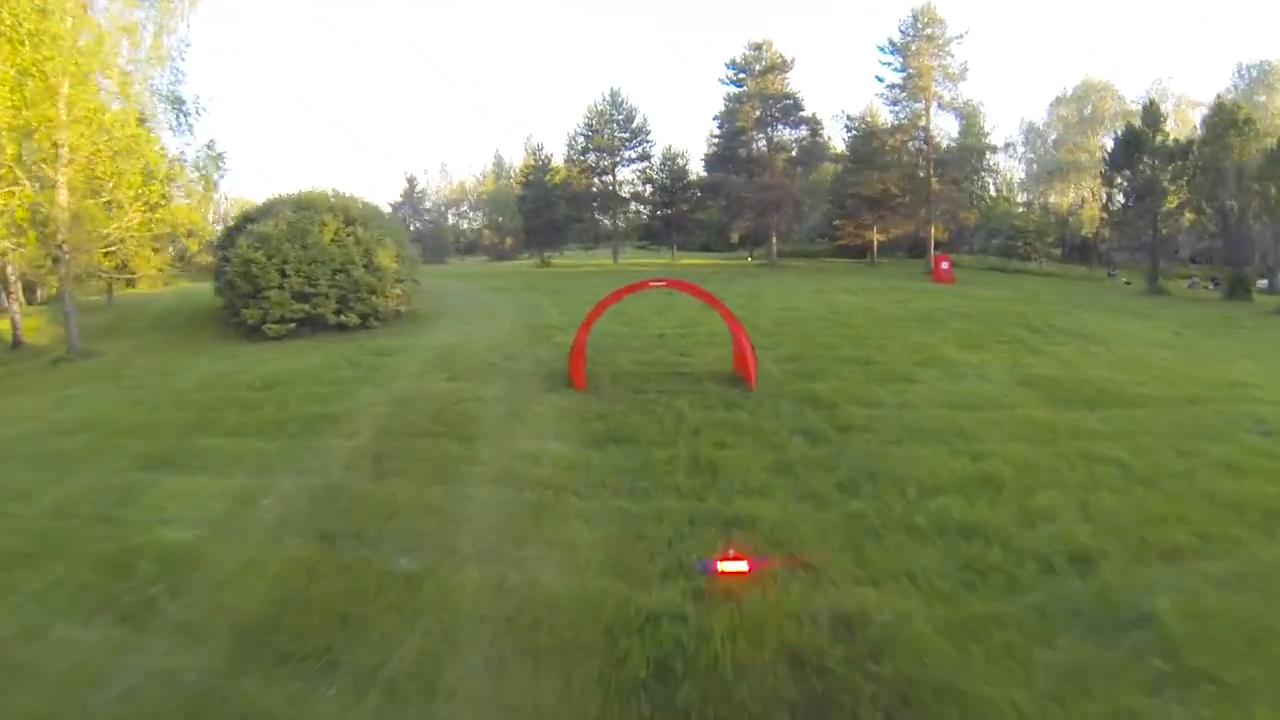gate: (559, 277, 763, 393)
